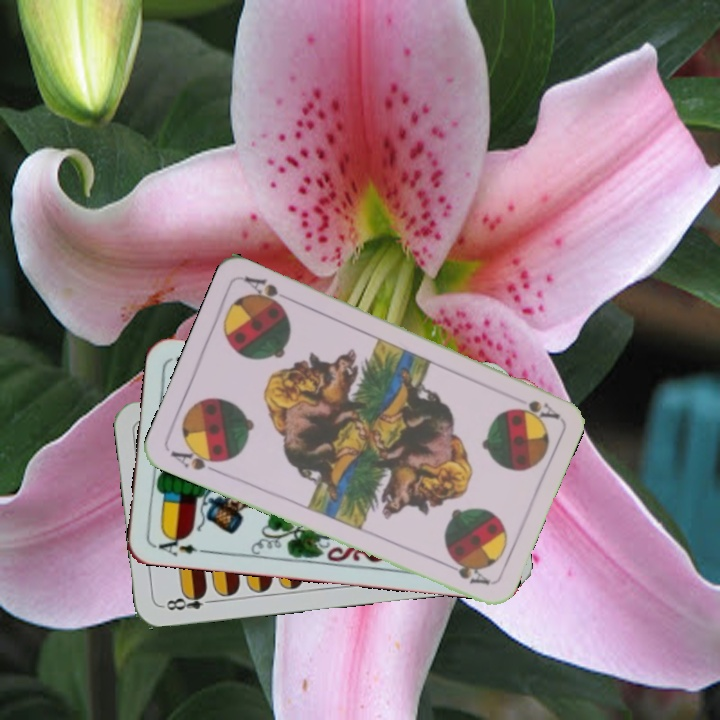E8: (159, 587, 218, 613)
EA: (151, 530, 210, 559)
SA: (166, 442, 227, 476), (517, 396, 562, 422)
